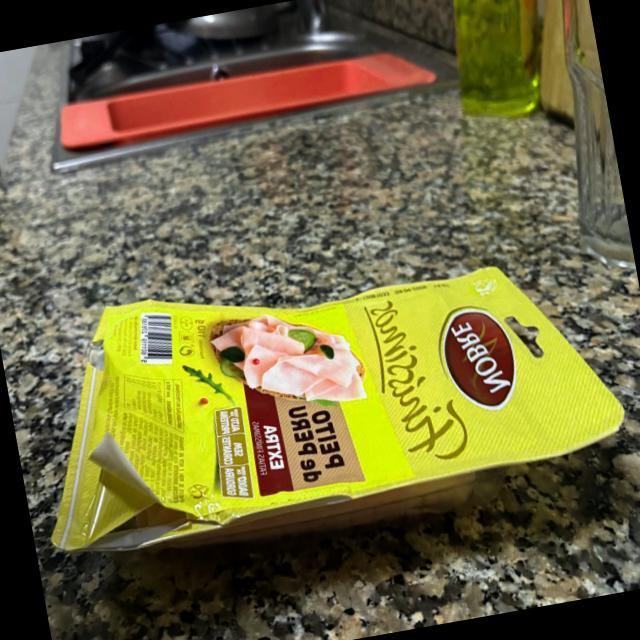damaged_package: (10, 218, 640, 595)
